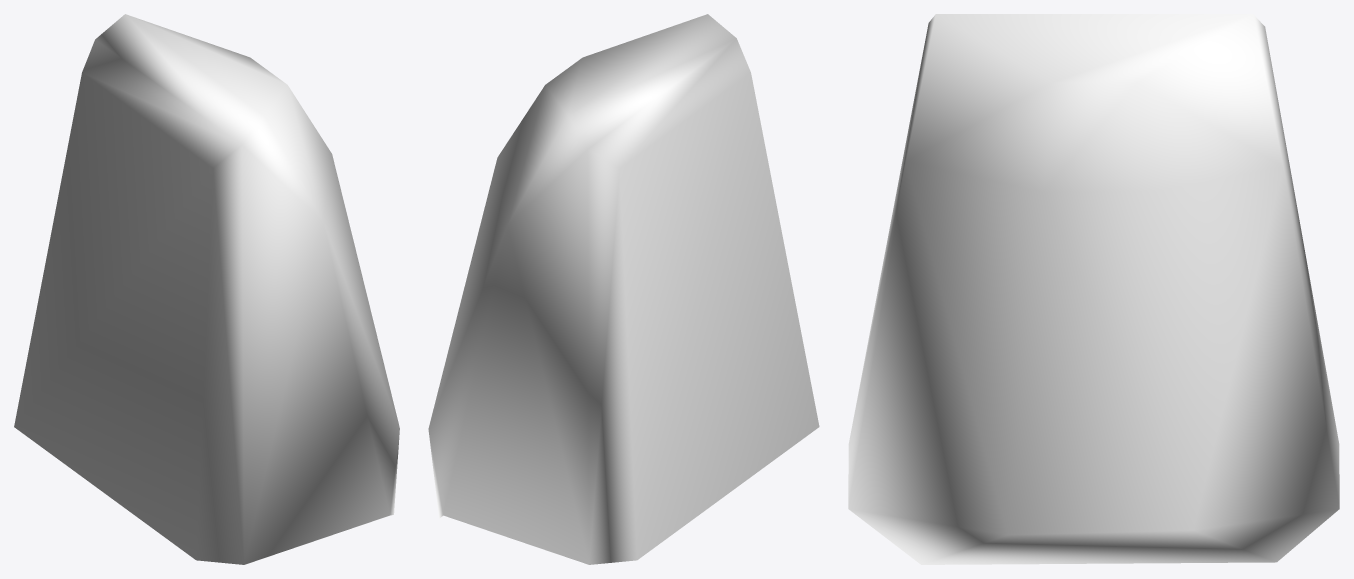
Rendered from indexj3_left.obj.
3 views of the same model, side by side, from view 1: azimuth 30°, elevation 25°; view 2: azimuth 150°, elevation 25°; view 3: azimuth 270°, elevation 25° (orthographic). The views are drawn at different scales.
Size of the model in its own units: 0.0111 by 0.0175 by 0.0162.
1 material, 1 textured.
